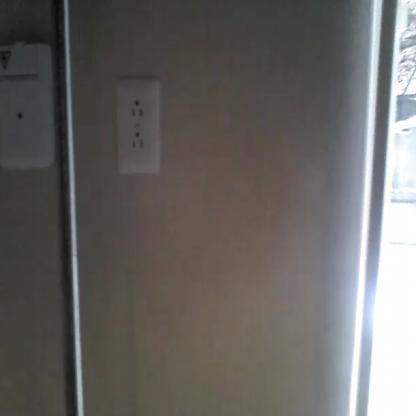OUTLET: (117, 80, 160, 172)
